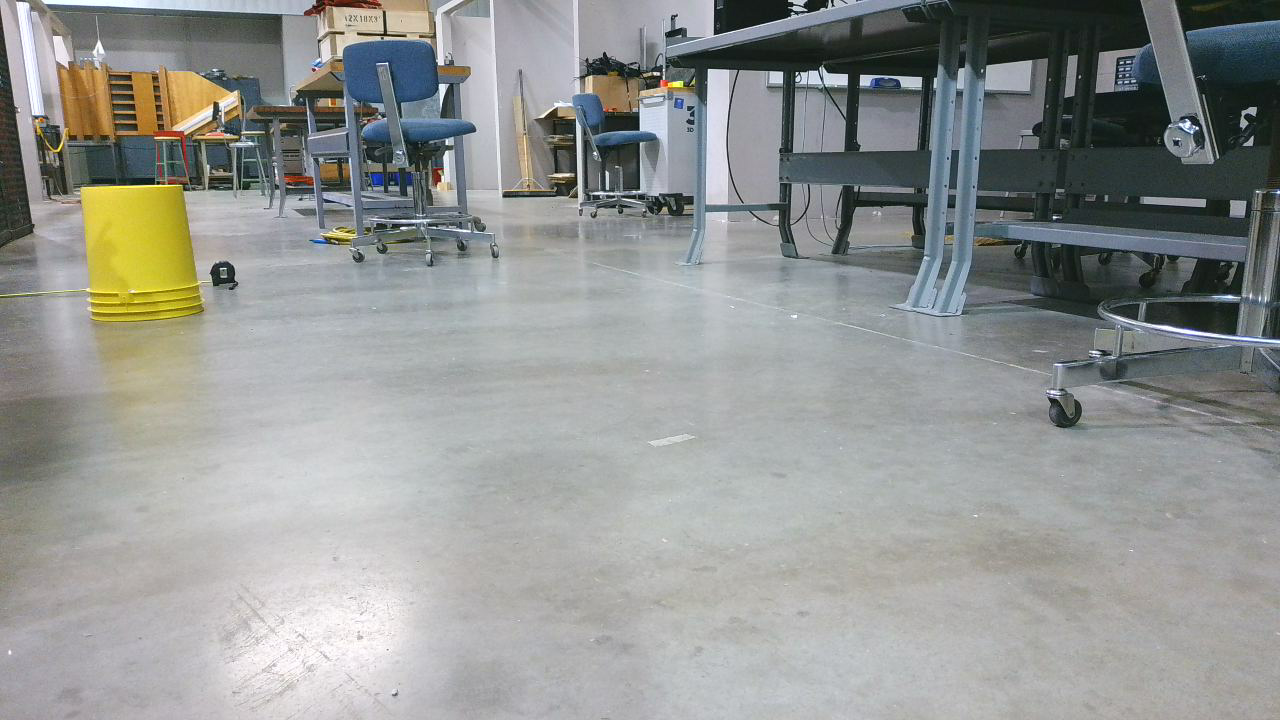yellow_bucket: (83, 184, 213, 327)
